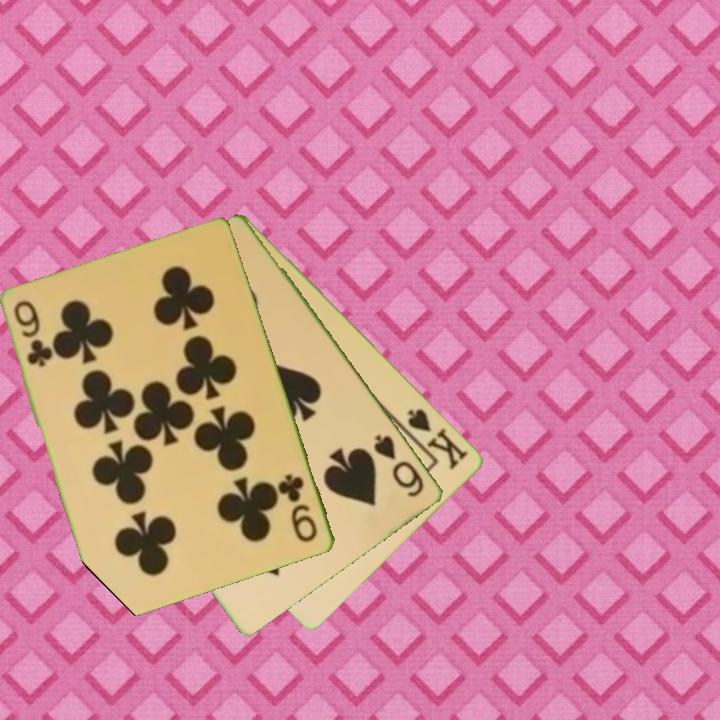6s: (370, 430, 428, 501)
9c: (276, 470, 321, 546), (11, 297, 54, 370)
Ks: (396, 404, 472, 473)
